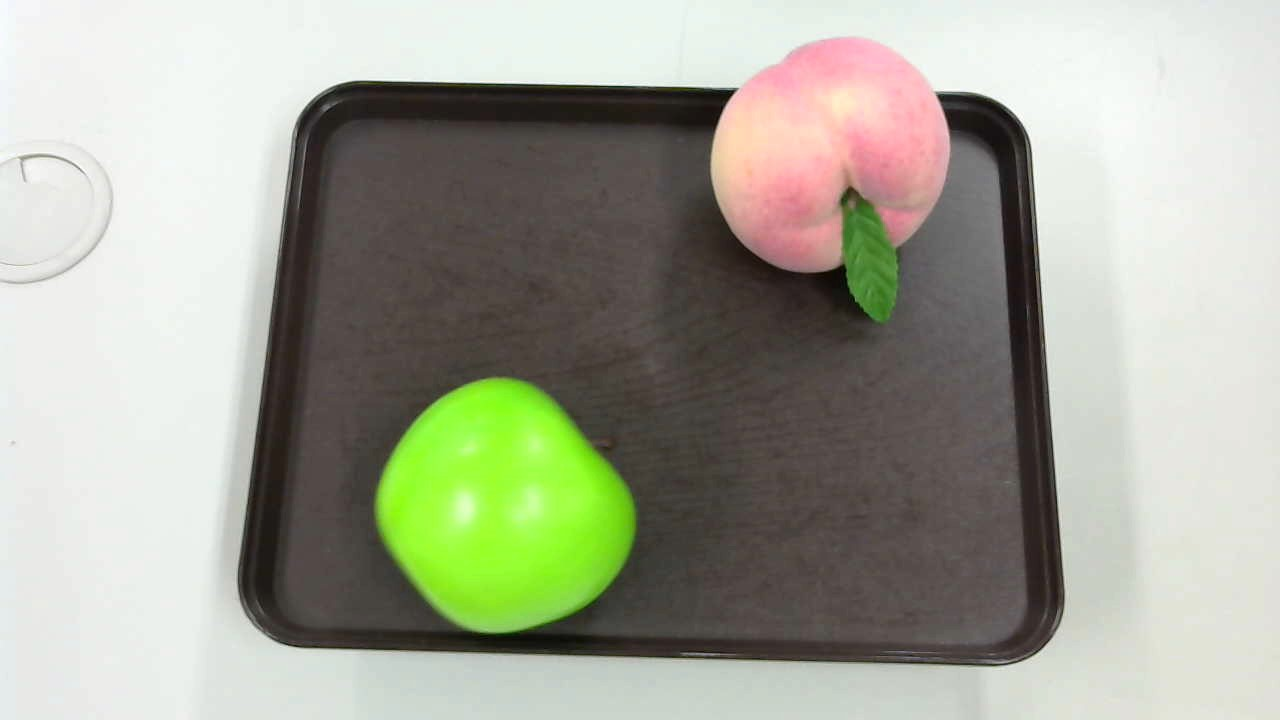green apple: (366, 369, 642, 634)
peach: (702, 32, 952, 320)
